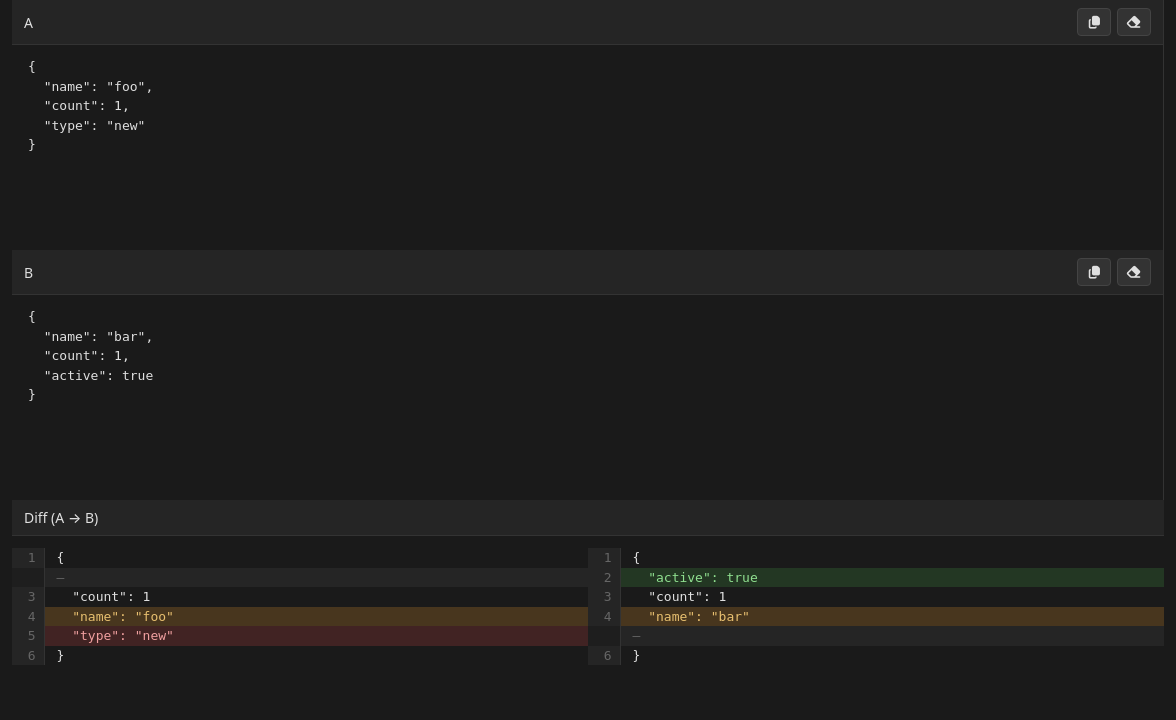
Test case: JsonDiffView › Clear in B clears the B textarea
Click the 2nd button named "clear".
click(1134, 272)  # box x1=1117 y1=258 x2=1151 y2=286
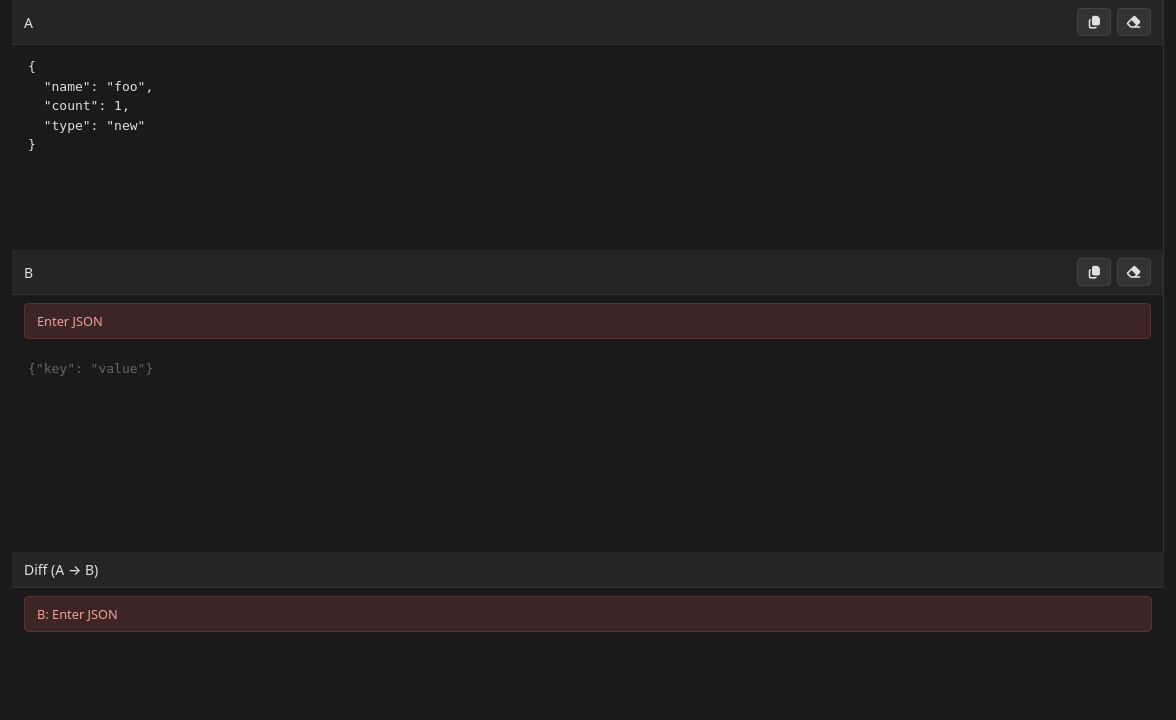
Result: the text box named "B Input" is empty at x1=12 y1=347 x2=1163 y2=547
